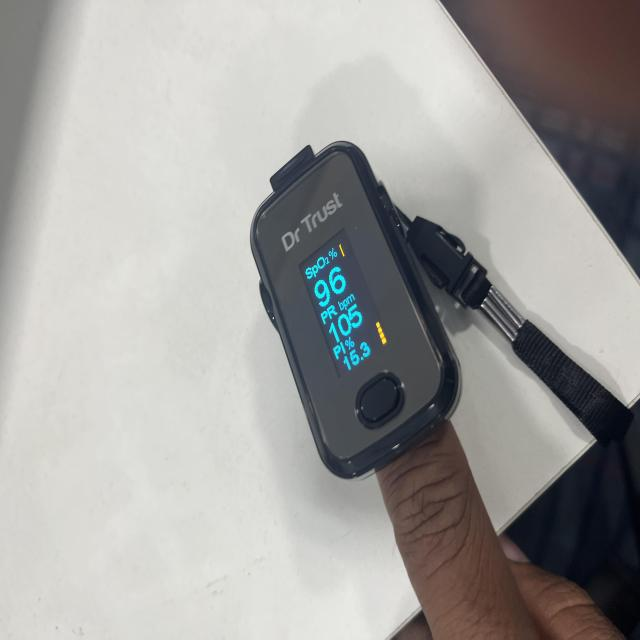spo2: (249, 142, 463, 482)
